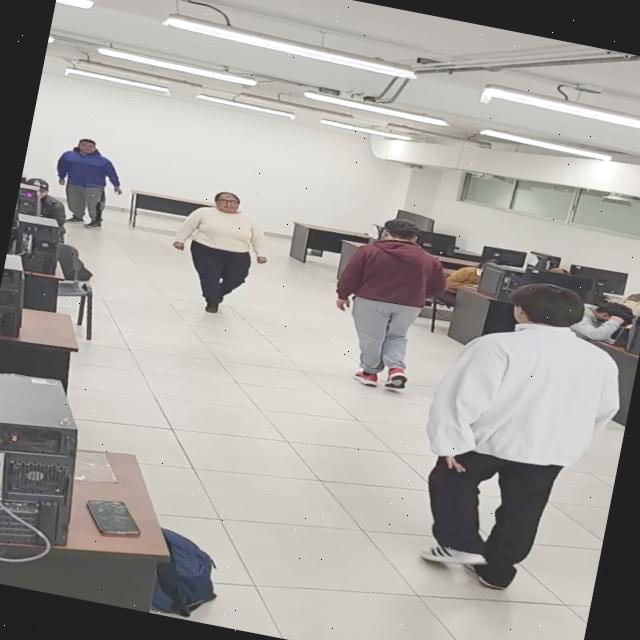Persona: (396, 269, 638, 612), (326, 210, 456, 396), (168, 184, 272, 317), (49, 134, 130, 232)
